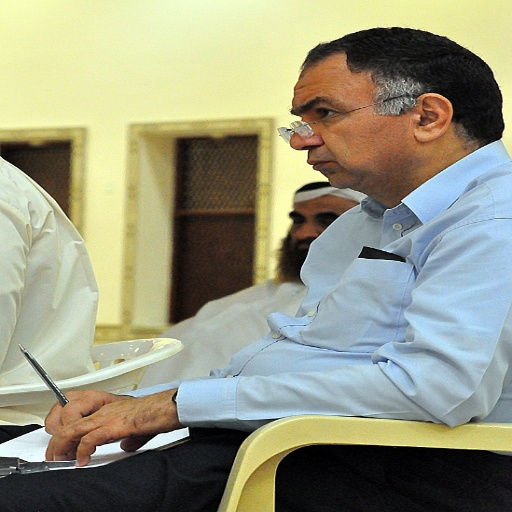hand: (41, 387, 138, 436)
